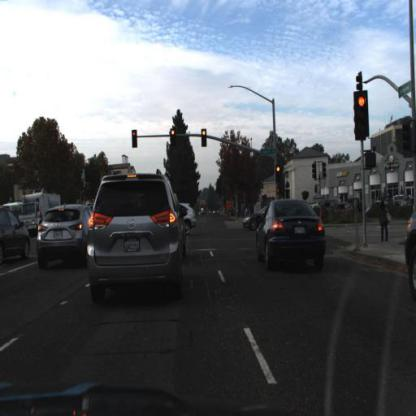car: (88, 168, 185, 300), (256, 199, 329, 272), (37, 204, 95, 269), (1, 209, 31, 264), (241, 205, 271, 234)
pedestrian: (377, 200, 389, 243)
trafficLight: (132, 130, 140, 148)
trafficLight-Red: (354, 90, 370, 141), (275, 166, 283, 185), (171, 128, 177, 145), (201, 130, 207, 147), (276, 167, 282, 181)
truck: (19, 191, 63, 238), (17, 191, 64, 233)
